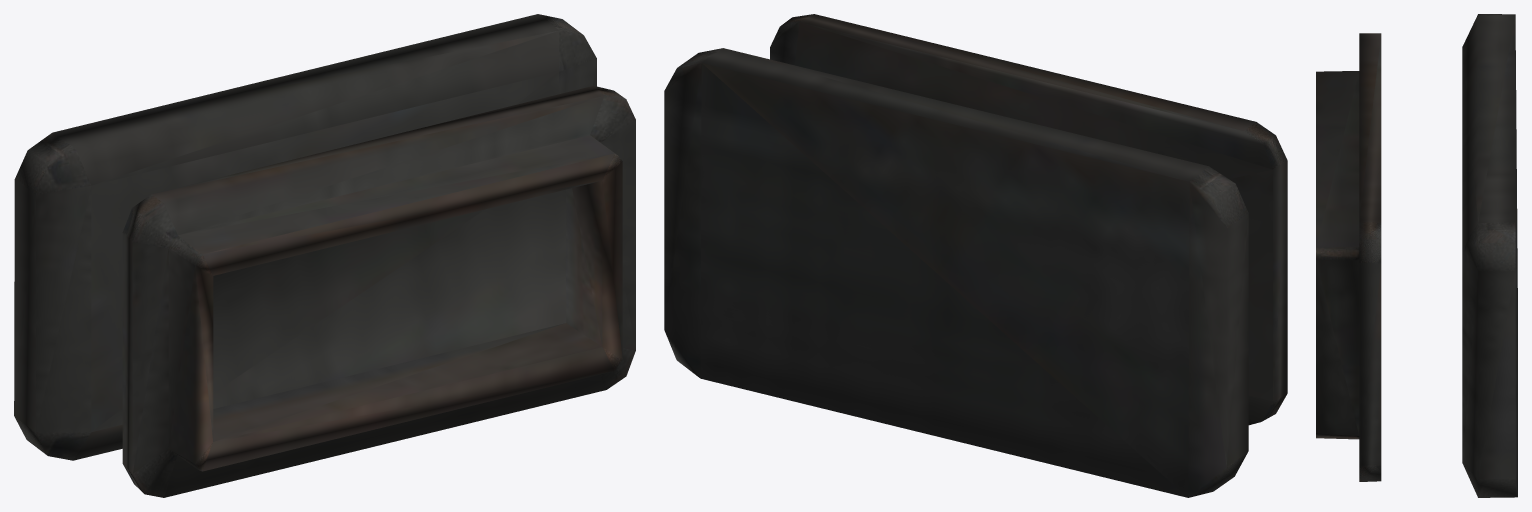
3 renders of one model, left to right at view 1: azimuth 30°, elevation 25°; view 2: azimuth 150°, elevation 25°; view 3: azimuth 270°, elevation 25°, orthographic. The views are drawn at different scales.
Size of the model in its own units: 1 by 0.5349 by 0.3554.
1 material, 1 textured.
